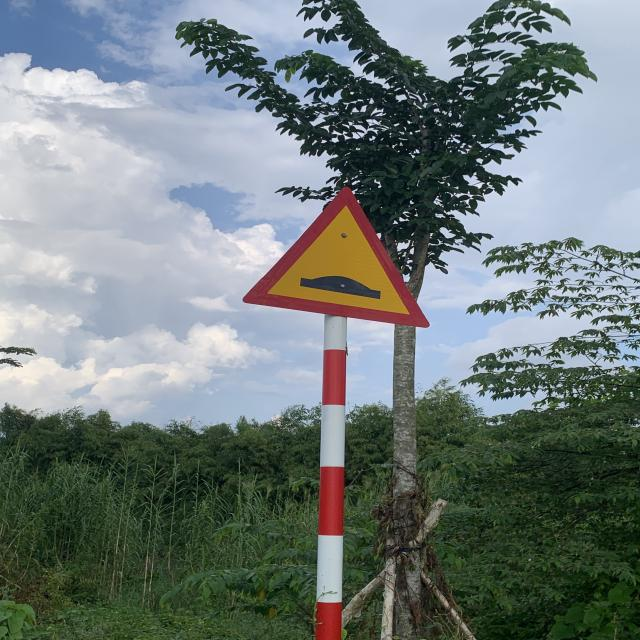Duong_Cong_Ben_Phai: (242, 183, 430, 329)
